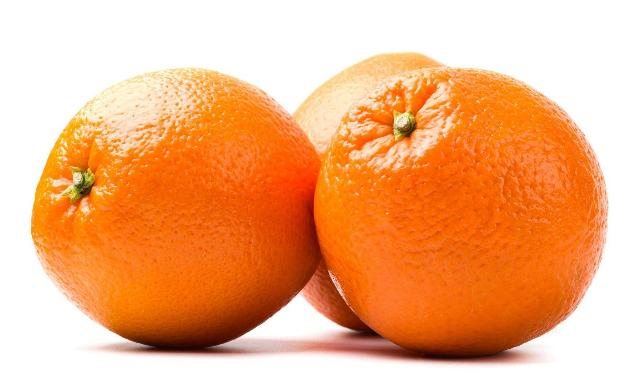Oranges: (314, 66, 608, 358), (33, 69, 320, 352)
